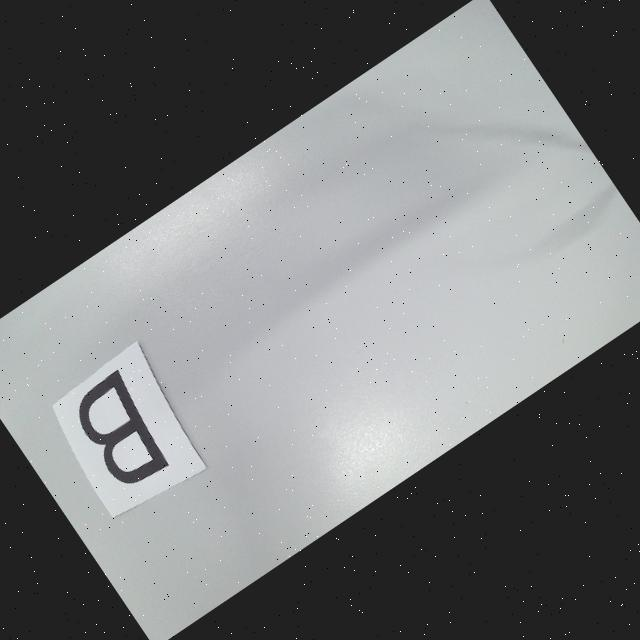FAKE: (64, 368, 178, 494)
